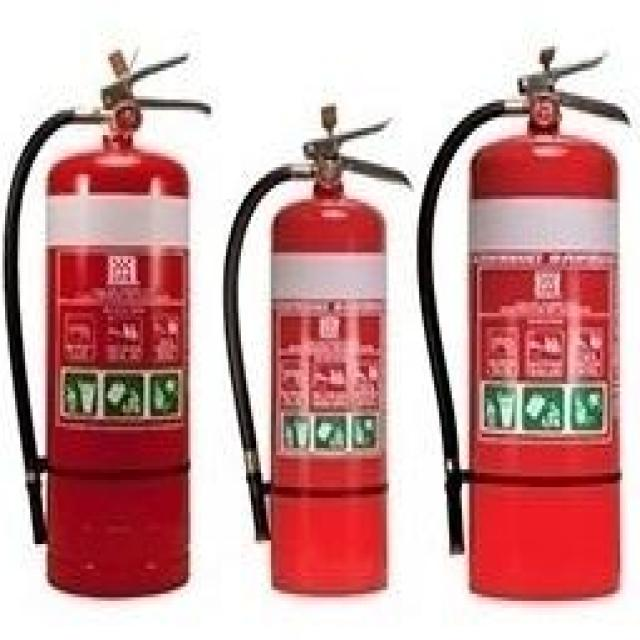fire_extinguisher: (412, 36, 630, 608), (0, 39, 213, 601), (216, 96, 414, 601)
